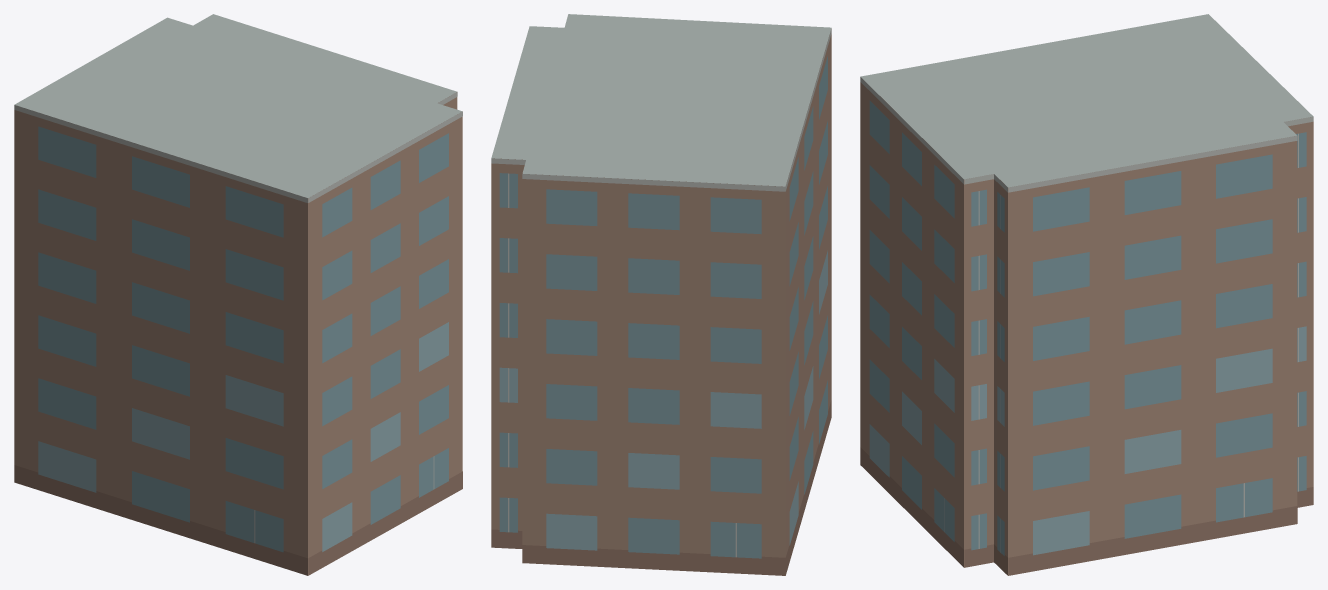
File: survey-upis-32595259.glb
3 views of the same model, side by side, from view 1: azimuth 30°, elevation 25°; view 2: azimuth 150°, elevation 25°; view 3: azimuth 270°, elevation 25° (orthographic). The views are drawn at different scales.
Parts seen in each view (by area): view 1: survey-upis-32595259.tmp; view 2: survey-upis-32595259.tmp; view 3: survey-upis-32595259.tmp.
Part boxes in pixels (bbox=[...]): survey-upis-32595259.tmp: bbox=[14, 14, 462, 575]; survey-upis-32595259.tmp: bbox=[491, 14, 831, 575]; survey-upis-32595259.tmp: bbox=[860, 14, 1313, 575].
Bounding box in the file's own units: 17.54 × 18.3 × 19.36.
